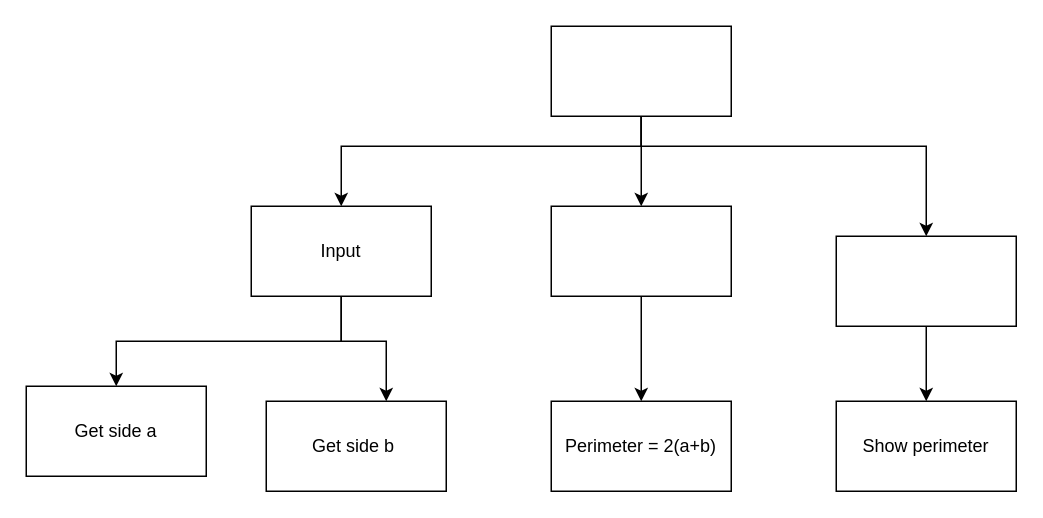
Image size: 1043x518. Some labels were removed from this diagram. Here are the shapes that lost their labels. From the top down, the centre of each, then its label:
(x=640, y=70): Area and Perimeter
(x=640, y=250): Process
(x=925, y=280): Output
